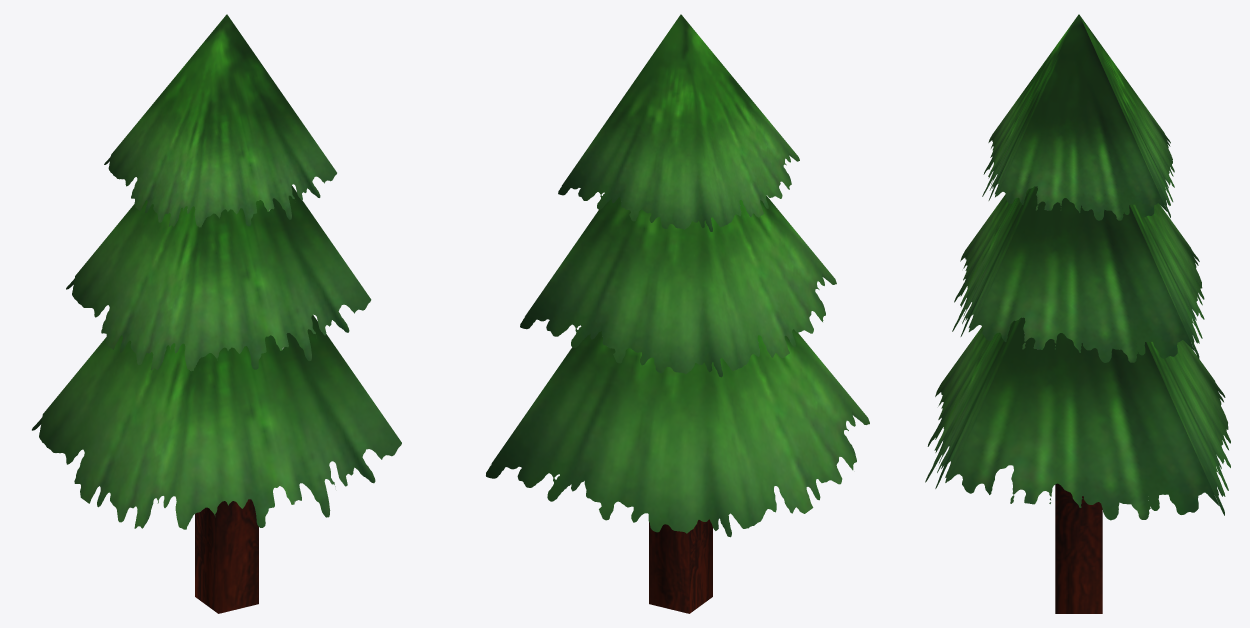
Rendered from pine.DAE.
3 views of the same model, side by side, from view 1: azimuth 30°, elevation 25°; view 2: azimuth 150°, elevation 25°; view 3: azimuth 270°, elevation 25° (orthographic).
Visible parts, largest first — view 1: pine2_PIVOT; view 2: pine2_PIVOT; view 3: pine2_PIVOT.
Part boxes in pixels (left/top/right/bottom): pine2_PIVOT: left=32, top=14, right=401, bottom=613; pine2_PIVOT: left=486, top=14, right=869, bottom=613; pine2_PIVOT: left=925, top=14, right=1230, bottom=613.
Bounding box in the file's own units: 113 × 113 × 235.
